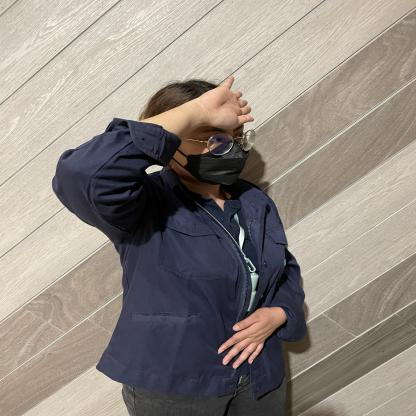Sick: (43, 60, 295, 195)
